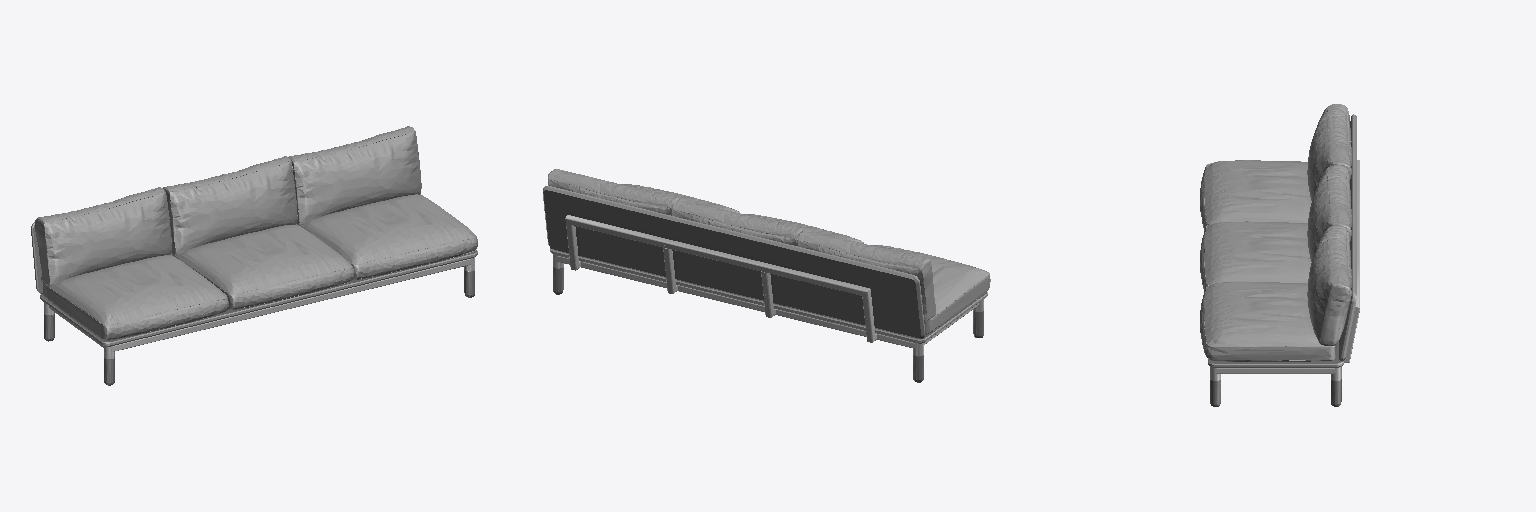
3 renders of one model, left to right at view 1: azimuth 30°, elevation 25°; view 2: azimuth 150°, elevation 25°; view 3: azimuth 270°, elevation 25°, orthographic.
Parts seen in each view (by area): view 1: solid_003, solid_001, solid_002, solid_004; view 2: solid_004, solid_003, solid_001, solid_002; view 3: solid_003, solid_002, solid_001, solid_004.
Boxes of the visible parts, <box> form: solid_003: <box>35,126,477,340</box>; solid_001: <box>44,257,474,358</box>; solid_002: <box>31,222,477,346</box>; solid_004: <box>33,135,476,385</box>; solid_004: <box>543,190,986,382</box>; solid_003: <box>548,169,990,334</box>; solid_001: <box>553,215,983,355</box>; solid_002: <box>543,186,987,343</box>; solid_003: <box>1200,104,1351,361</box>; solid_002: <box>1208,114,1356,367</box>; solid_001: <box>1210,160,1359,380</box>; solid_004: <box>1209,116,1351,406</box>.
Size of the model in its own units: 2 by 0.6295 by 0.7381.
Materials: 1 (1 with a texture image).